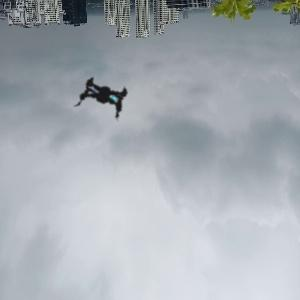drone: (25, 17, 177, 169)
